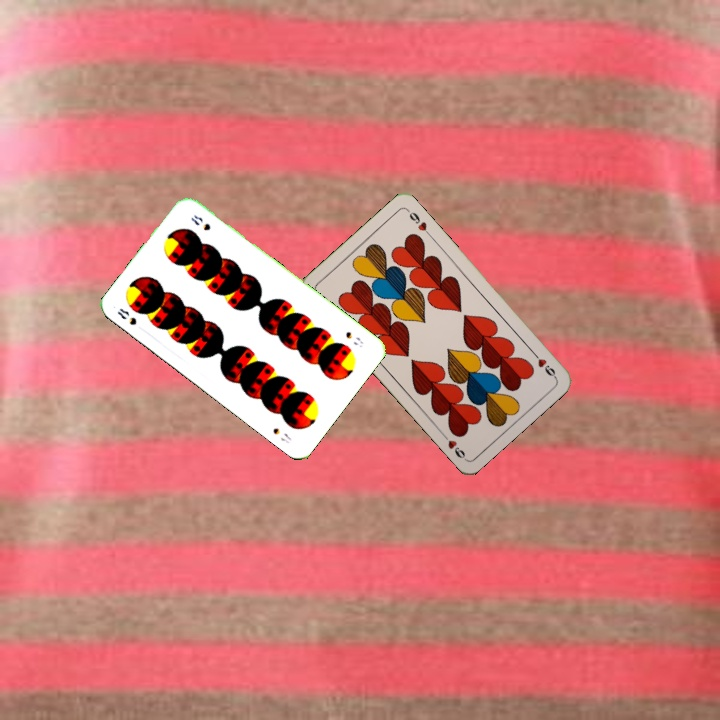H9: (528, 347, 559, 380)
S8: (113, 304, 139, 328), (341, 327, 366, 350)
